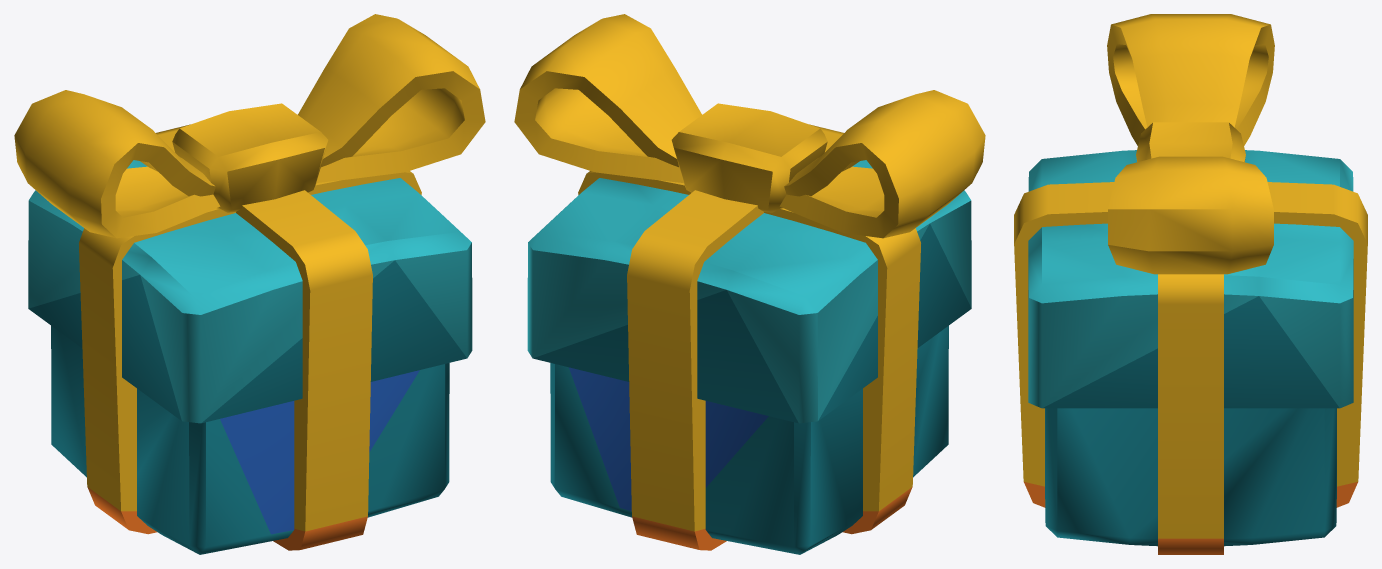
Rendered from presente_natal_azul_fita_amarela_pacote.glb.
The picture shows the model from 3 angles, left to right: view 1: azimuth 30°, elevation 25°; view 2: azimuth 150°, elevation 25°; view 3: azimuth 270°, elevation 25°; orthographic projection. The views are drawn at different scales.
Visible parts, largest first — view 1: presente_natal_azul_fita_amarela_pacote; view 2: presente_natal_azul_fita_amarela_pacote; view 3: presente_natal_azul_fita_amarela_pacote.
Part boxes in pixels (box(x1,y1,x2,y2)): presente_natal_azul_fita_amarela_pacote: box(14, 14, 485, 554); presente_natal_azul_fita_amarela_pacote: box(514, 14, 985, 554); presente_natal_azul_fita_amarela_pacote: box(1014, 14, 1367, 554).
Size of the model in its own units: 0.248 by 0.25 by 0.1927.
1 material, 1 textured.
